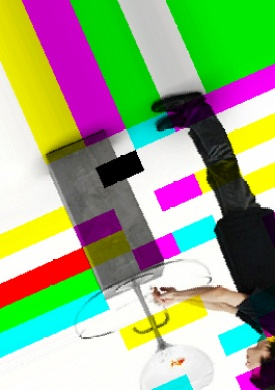washing hand: (107, 257, 218, 353)
